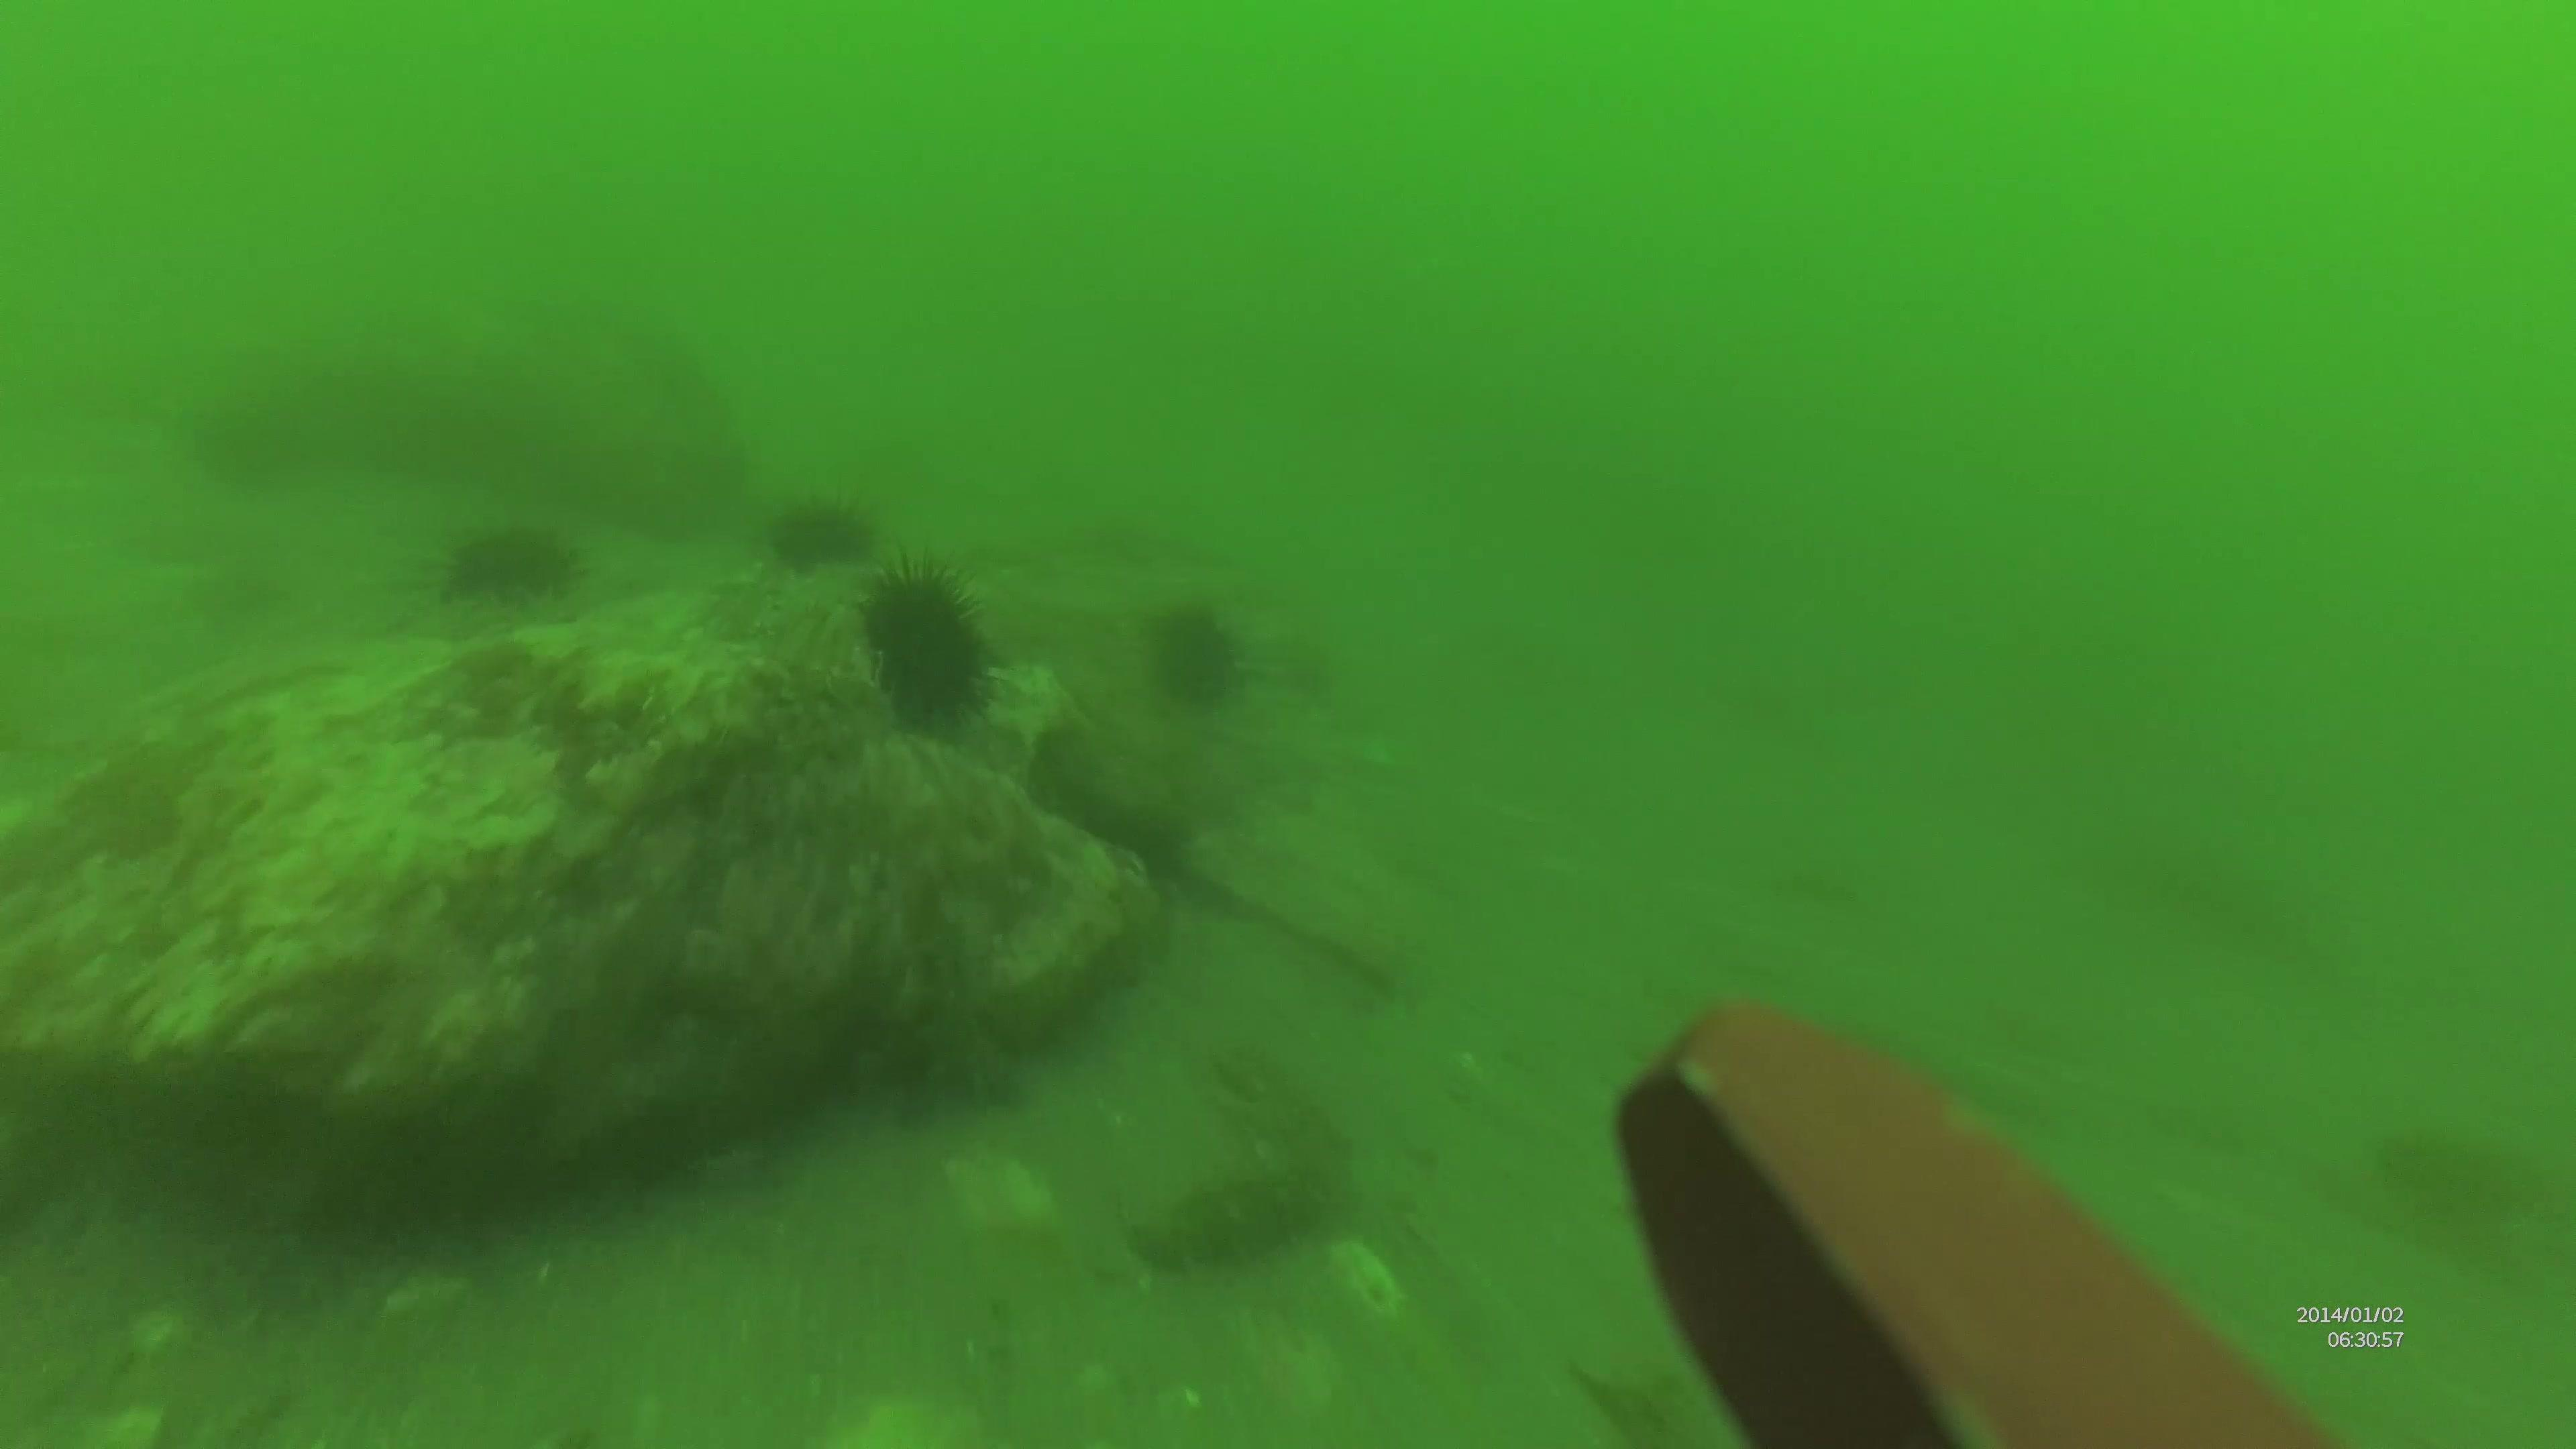echinus: (865, 541, 1000, 727), (428, 518, 582, 614), (1143, 605, 1244, 718), (757, 487, 883, 575)
